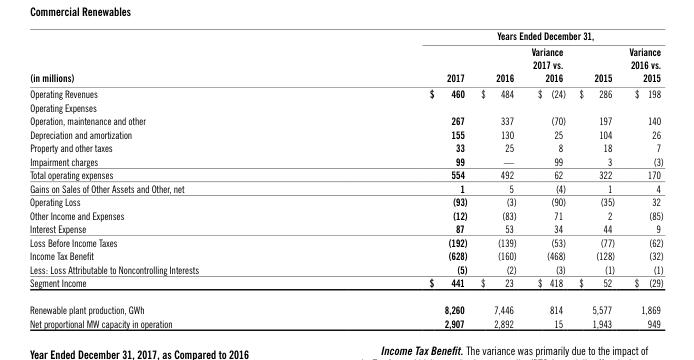table: (29, 29, 662, 329)
table column: (29, 29, 313, 329), (313, 29, 473, 329), (473, 29, 523, 329), (571, 29, 621, 329), (523, 29, 571, 329), (621, 29, 662, 329)
table column header: (29, 29, 662, 85)
table projected row header: (29, 100, 662, 113)
table row: (29, 43, 662, 85), (29, 295, 662, 316), (29, 275, 662, 295), (29, 85, 662, 100), (29, 29, 662, 43), (29, 113, 662, 127), (29, 140, 662, 154), (29, 167, 662, 181), (29, 194, 662, 208), (29, 221, 662, 235), (29, 248, 662, 262), (29, 100, 662, 113), (29, 127, 662, 140), (29, 154, 662, 167), (29, 181, 662, 194), (29, 208, 662, 221), (29, 235, 662, 248), (29, 262, 662, 275), (29, 316, 662, 329)
table spanning cell: (29, 29, 313, 85), (313, 29, 662, 43)
